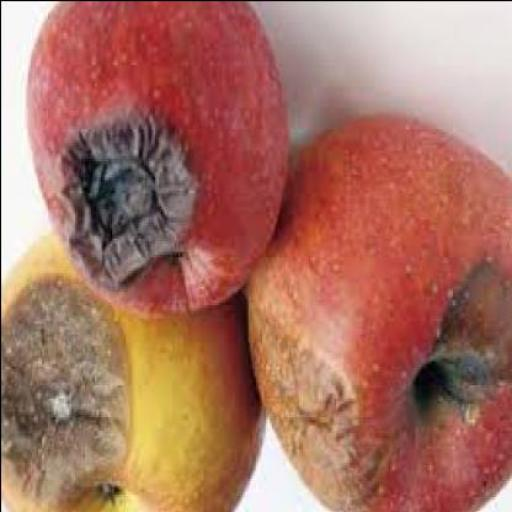biodegradable: (245, 119, 512, 511), (22, 2, 286, 320), (1, 225, 262, 511)
